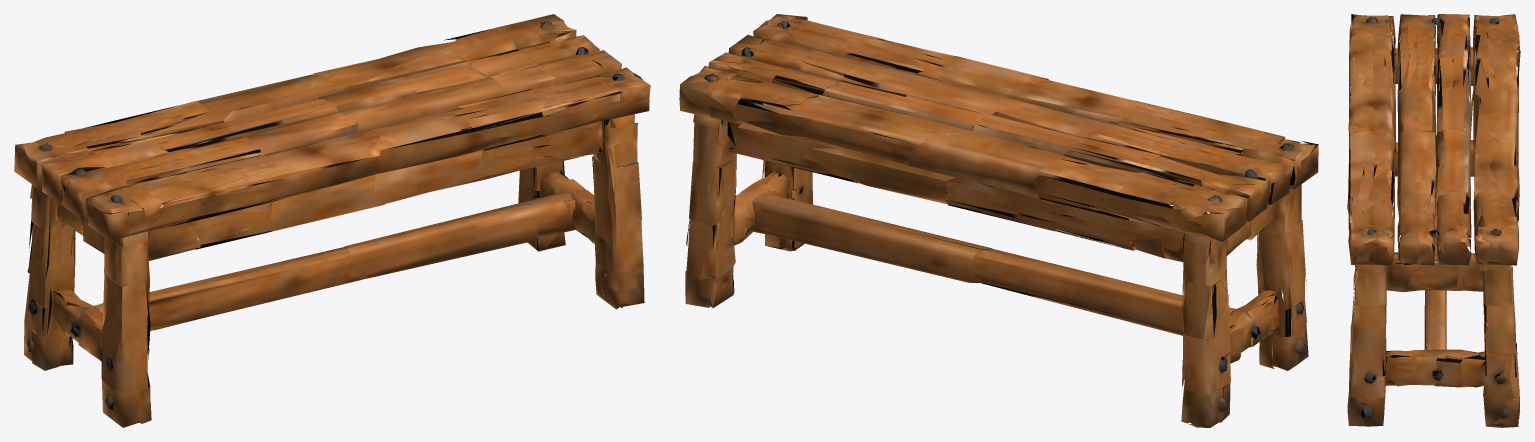
The model's file is bench.glb.
The picture shows the model from 3 angles, left to right: view 1: azimuth 30°, elevation 25°; view 2: azimuth 150°, elevation 25°; view 3: azimuth 270°, elevation 25°; orthographic projection. The views are drawn at different scales.
Visible parts, largest first — view 1: Mesh0; view 2: Mesh0; view 3: Mesh0.
Boxes of the visible parts, <box> form: Mesh0: <box>14,14,650,427</box>; Mesh0: <box>679,14,1318,427</box>; Mesh0: <box>1347,14,1520,427</box>.
Size of the model in its own units: 1.01 by 0.3986 by 0.3222.
1 material, 1 textured.
